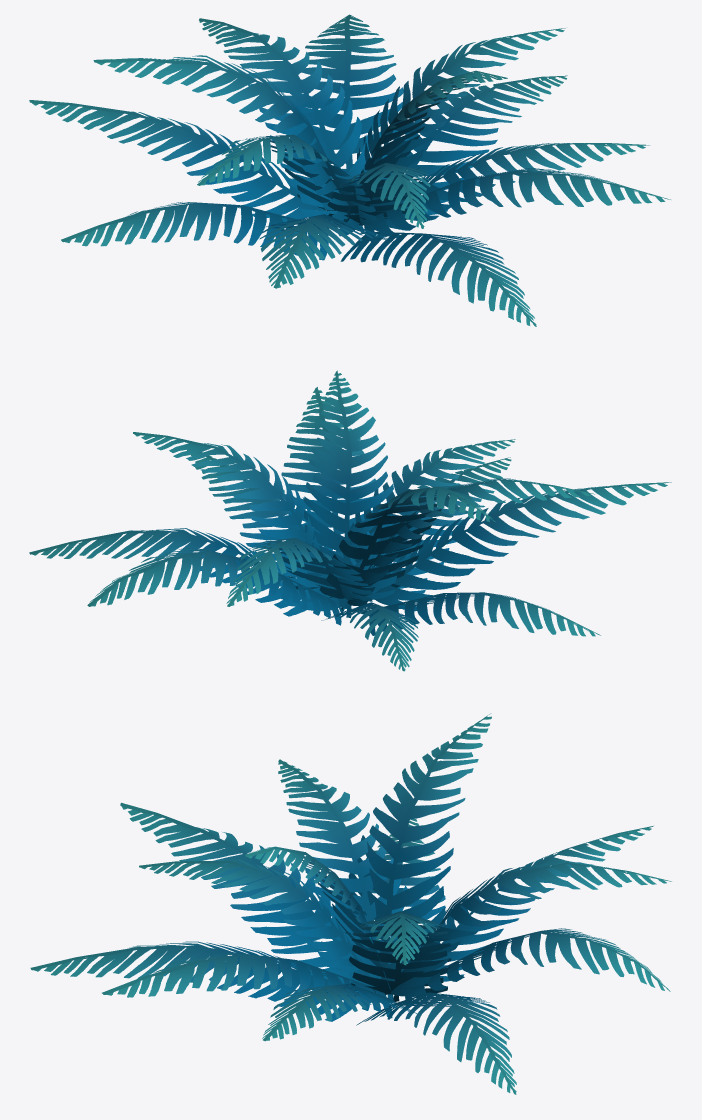
3 views of the same model, one above another, from view 1: azimuth 30°, elevation 25°; view 2: azimuth 150°, elevation 25°; view 3: azimuth 270°, elevation 25° (orthographic). The views are drawn at different scales.
Visible parts, largest first — view 1: submesh_0; view 2: submesh_0; view 3: submesh_0.
Part boxes in pixels (left/top/right/bottom): submesh_0: left=29, top=14, right=670, bottom=326; submesh_0: left=29, top=370, right=671, bottom=671; submesh_0: left=30, top=713, right=671, bottom=1094.
Size of the model in its own units: 2.05 by 0.6964 by 2.04.
Materials: 1 (1 with a texture image).
